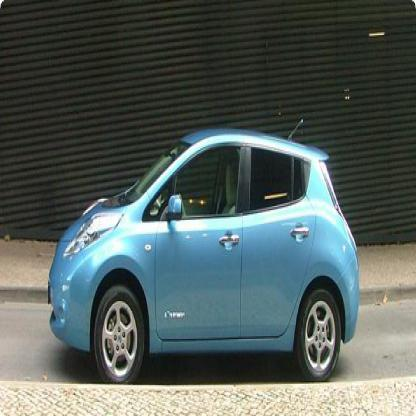Vehicle: (46, 125, 361, 384)
